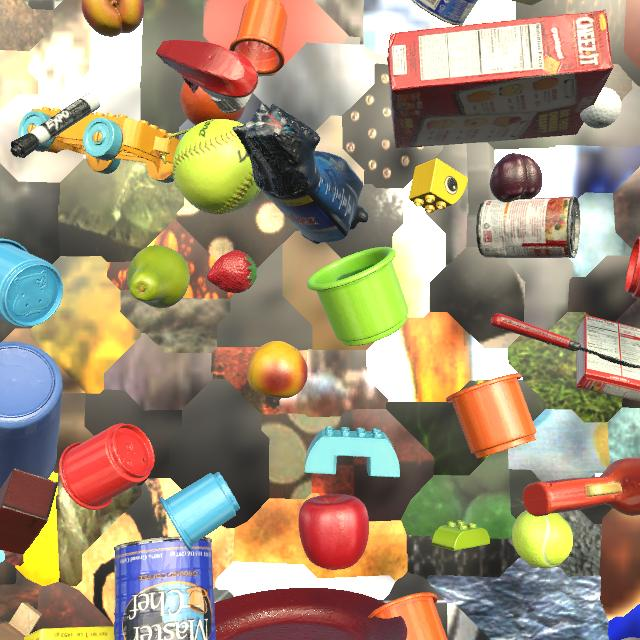ycb_002_master_chef_can: (114, 537, 216, 640)
ycb_003_cracker_box: (387, 10, 614, 148)
ycb_004_sugar_box: (24, 626, 114, 640), (510, 0, 542, 5)
ycb_005_tomato_soup_can: (476, 196, 580, 258)
ycb_007_tuna_fish_can: (412, 0, 478, 26)
ycb_009_gelatin_box: (576, 314, 640, 402)
ycb_012_strawberry: (207, 250, 257, 293)
ycb_013_apple: (298, 494, 369, 570)
ycb_015_peach: (247, 341, 308, 398), (81, 0, 144, 37)
ycb_016_pear: (127, 245, 190, 308)
ycb_017_orange: (180, 81, 246, 125)
ycb_018_plum: (490, 153, 543, 202)
